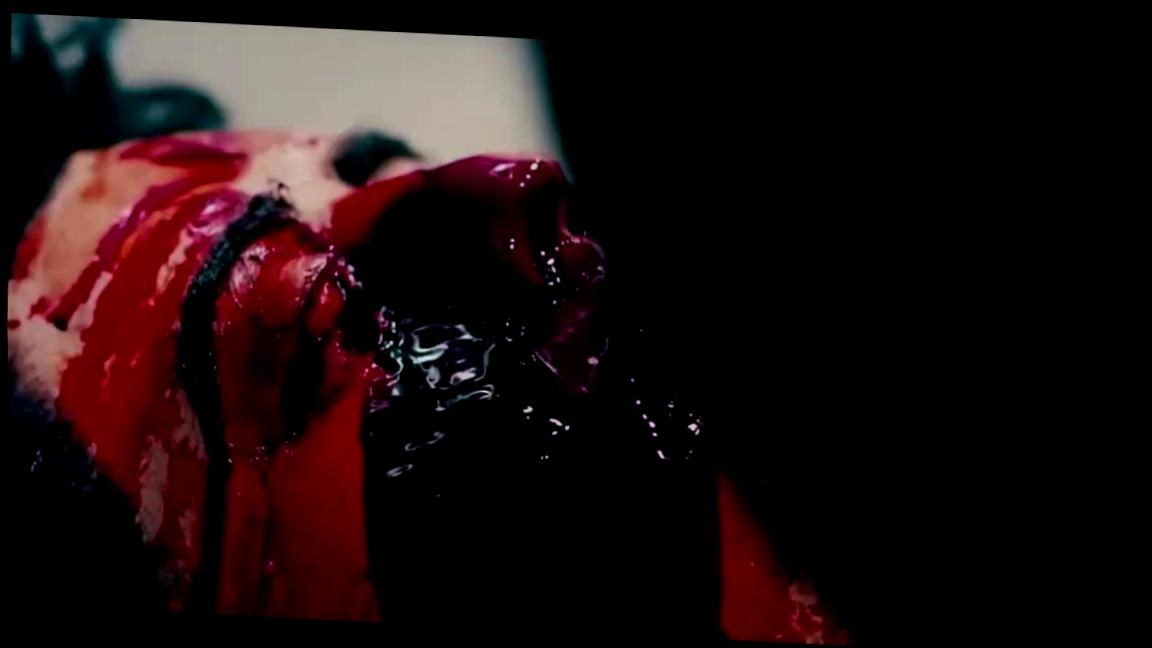Fire: (5, 138, 821, 642), (7, 213, 45, 275)
